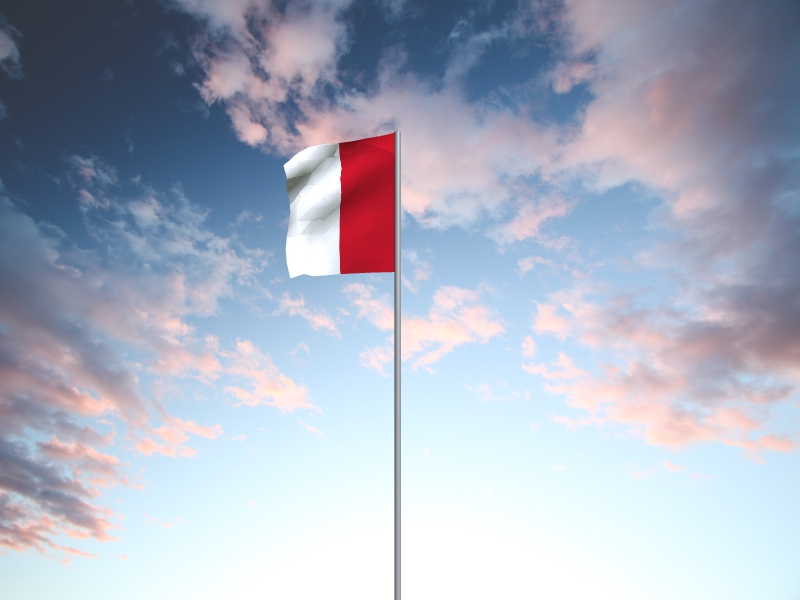mc: (283, 134, 395, 280)
